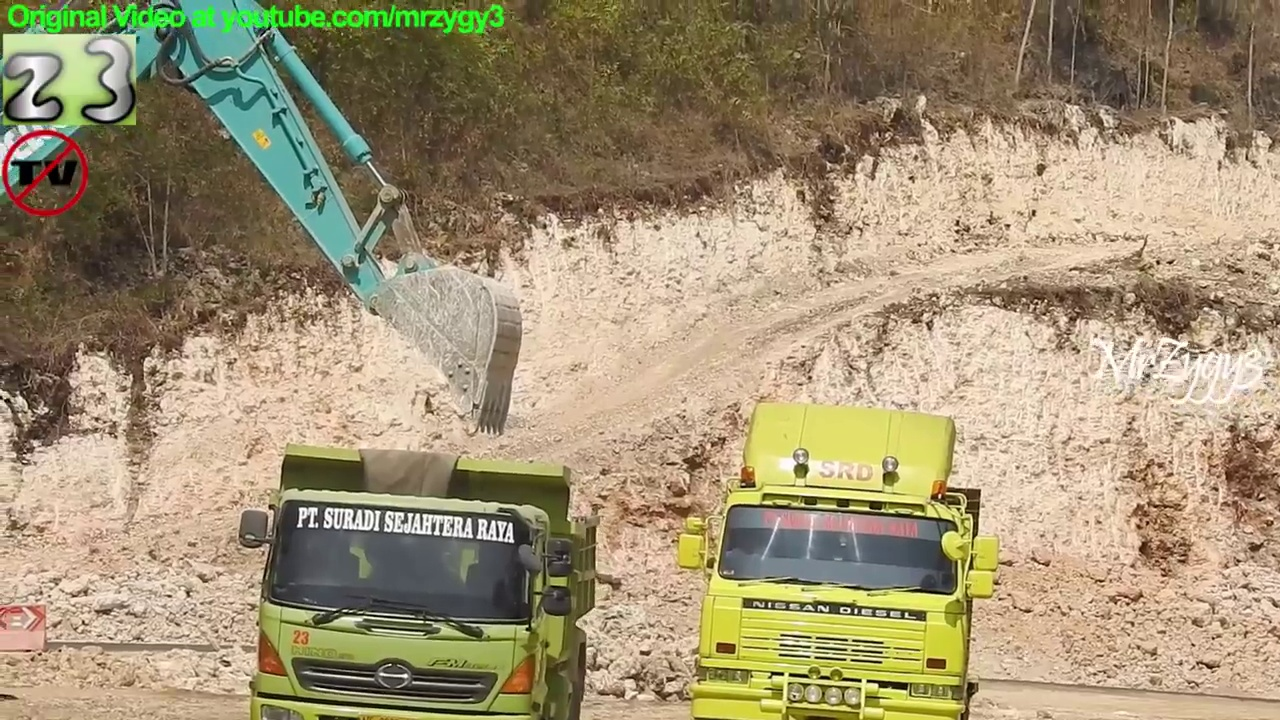excavator: (1, 1, 531, 441)
truck: (669, 393, 1013, 720), (236, 438, 605, 720)
